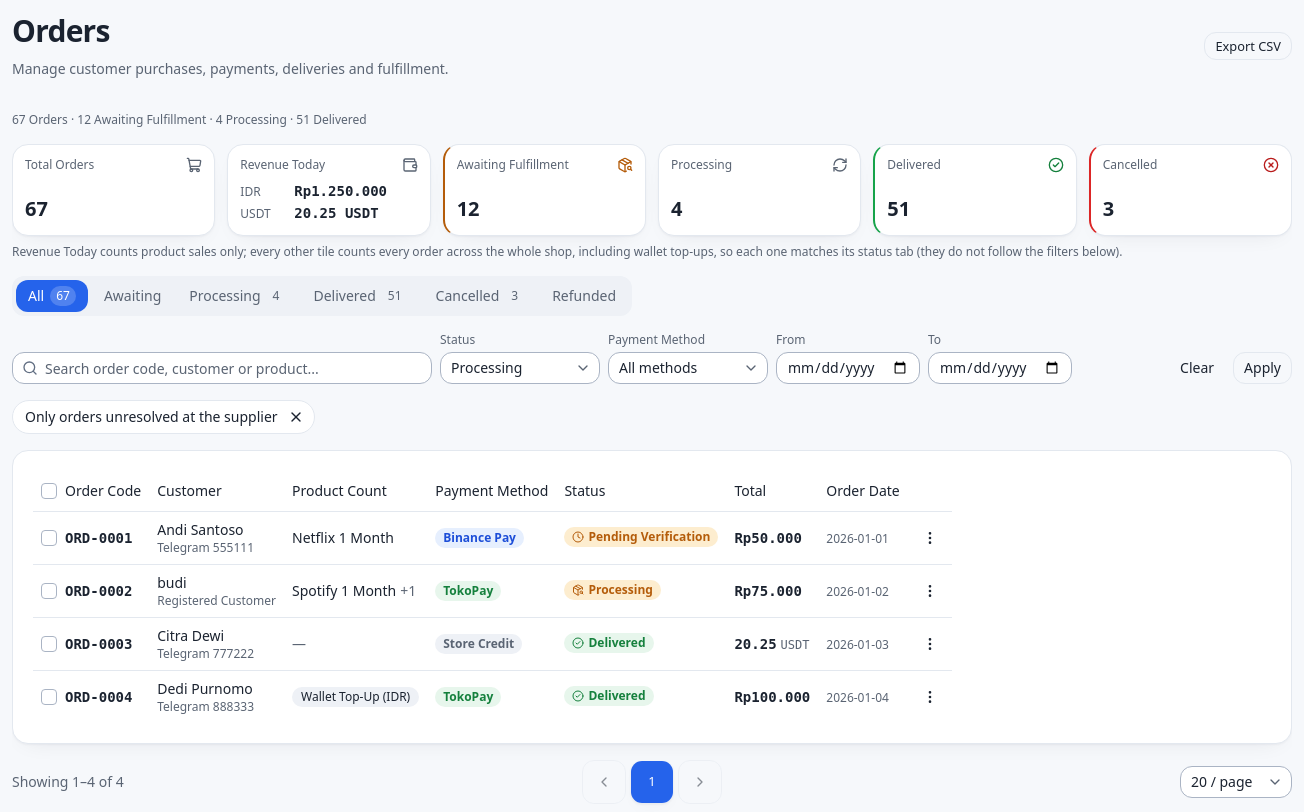
Test case: OrdersPage › pre-filters by ?digiflazz=unresolved alongside ?status=, names the narrowing, and lets it be removed
Expected: the text "Only orders unresolved at the supplier" is shown, top-left (12, 400), bottom-right (315, 434)
Click the button named "show all orders, not only unresolved": (296, 417) top-left (282, 403), bottom-right (310, 431)
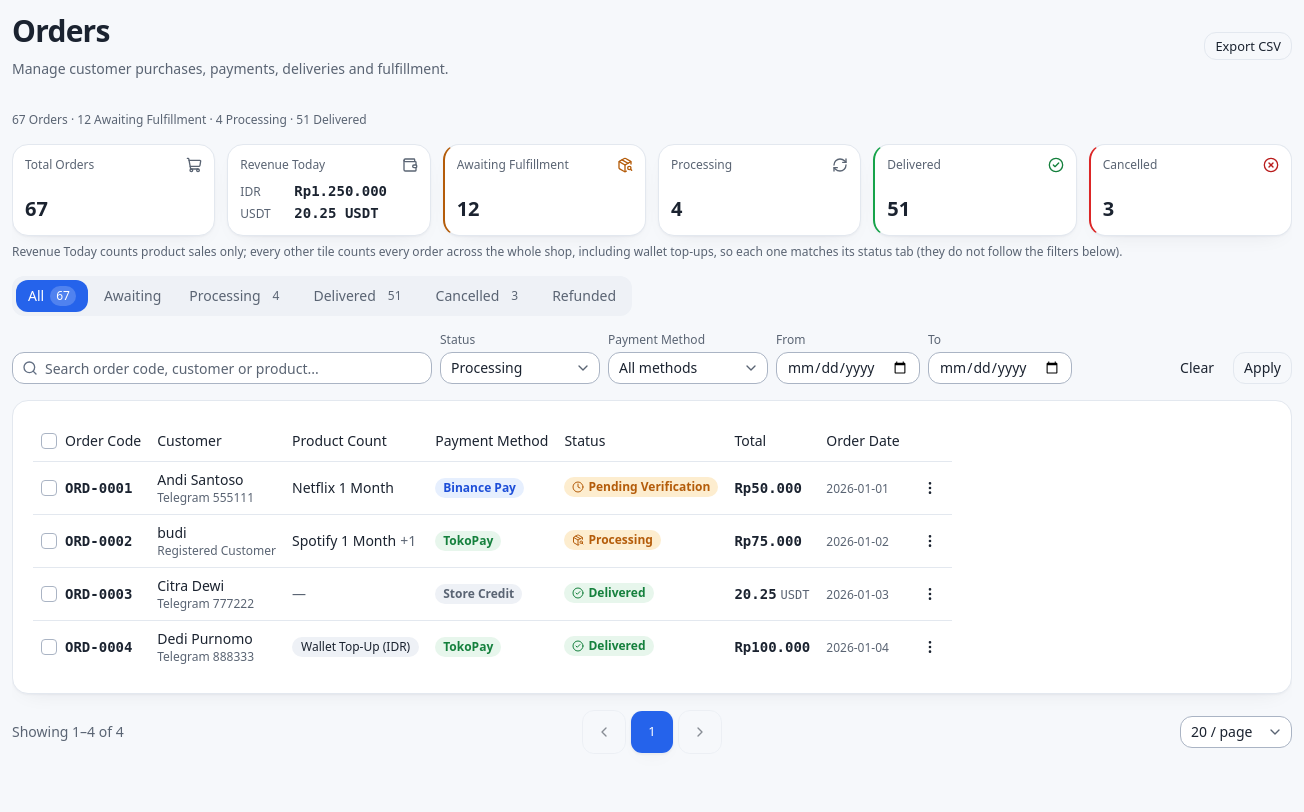
Expected: the text "Only orders unresolved at the supplier" is gone
